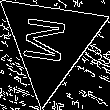M_E: (24, 16, 77, 68)
